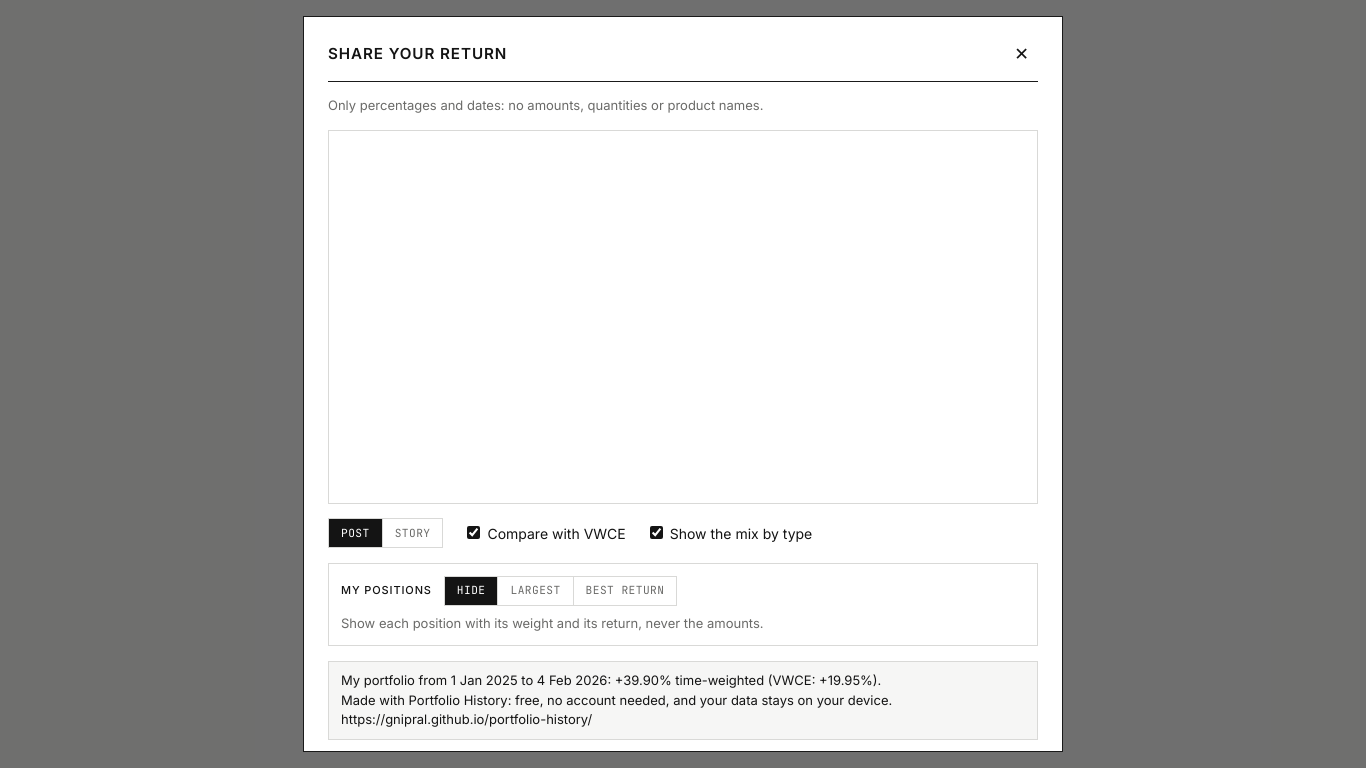
it: ShareDialog › copies the text and drops the comparison when switched off
Click the checkbox labelled "Compare with VWCE" at (474, 532), box left=468, top=526, right=480, bottom=539
(page scrolled)
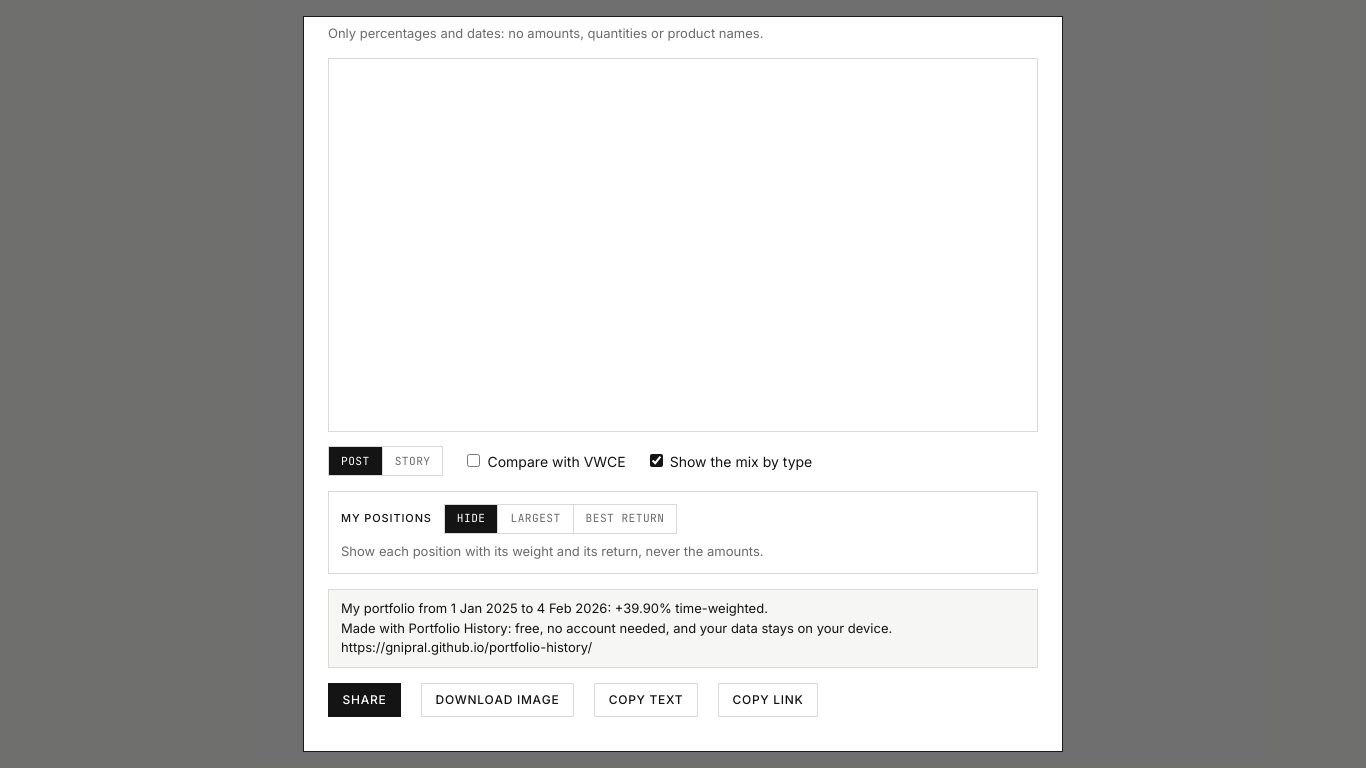
Click the button "Copy text" at (646, 700), box left=594, top=683, right=698, bottom=717
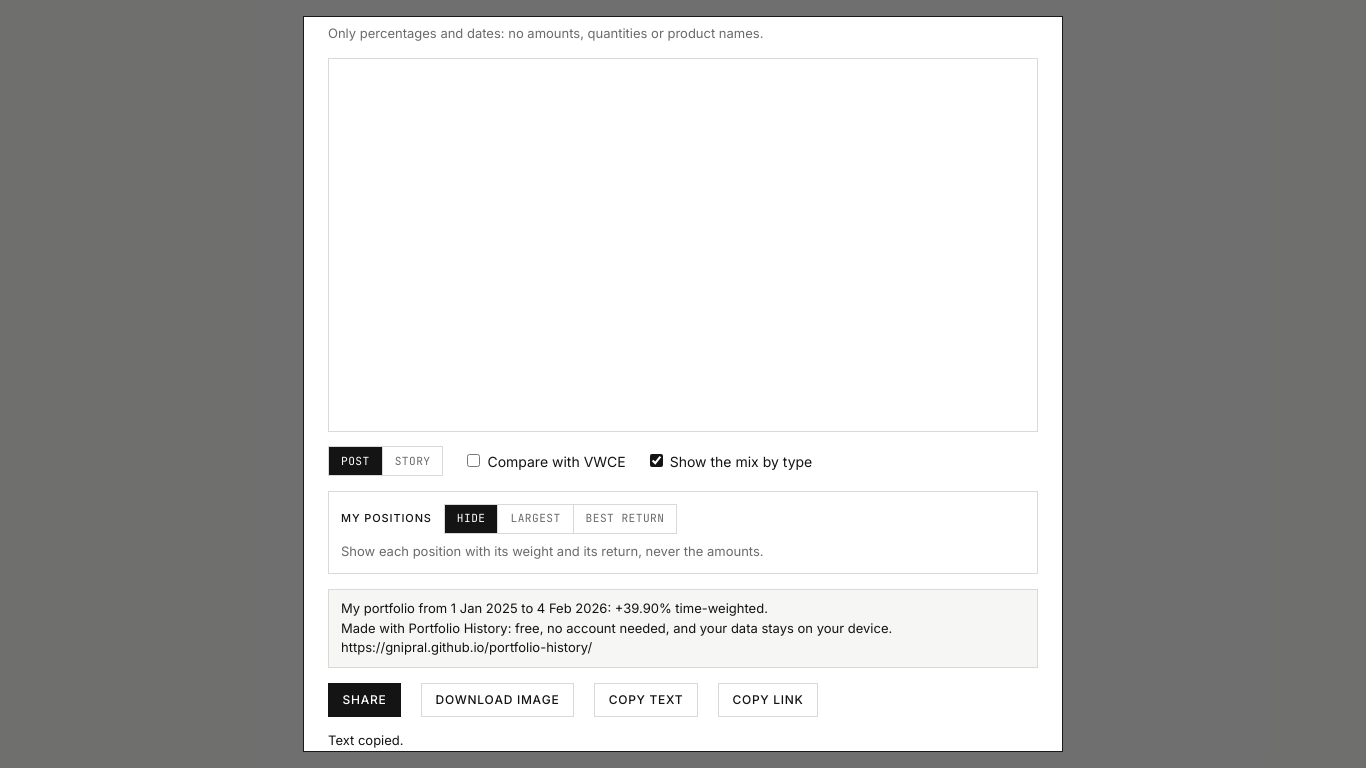
Result: the message reads "Text copied." at left=328, top=732, right=404, bottom=748
